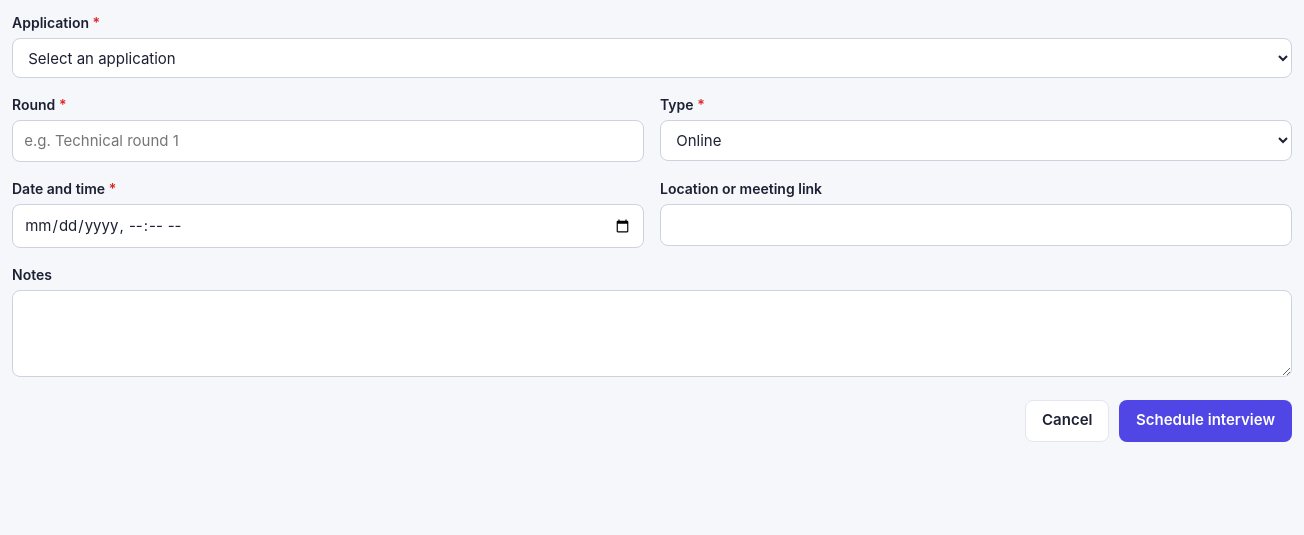
it: InterviewForm › requires an application, a round and a date
What coordinates should you click on to do the following:
click the button "Schedule interview"
I would click on:
 (1206, 421)
Its box is [1119,400,1292,442].
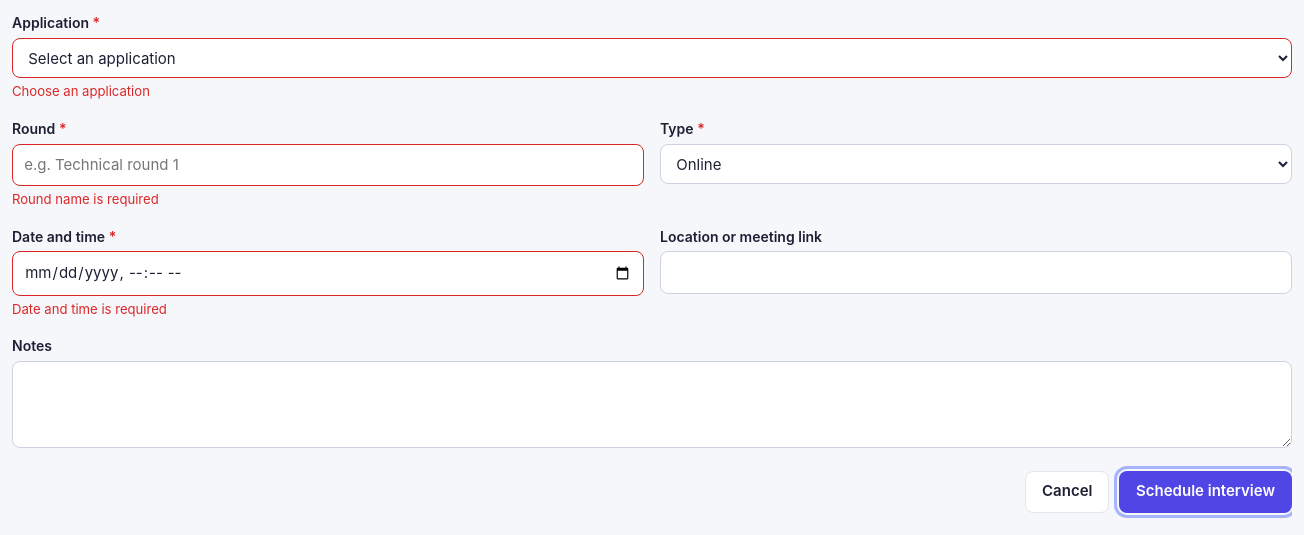
Check: the text "Choose an application" is shown, box [12,83,150,99]
Check: the text "Round name is required" is shown, box [12,191,159,207]
Check: the text "Date and time is required" is shown, box [12,300,167,316]
